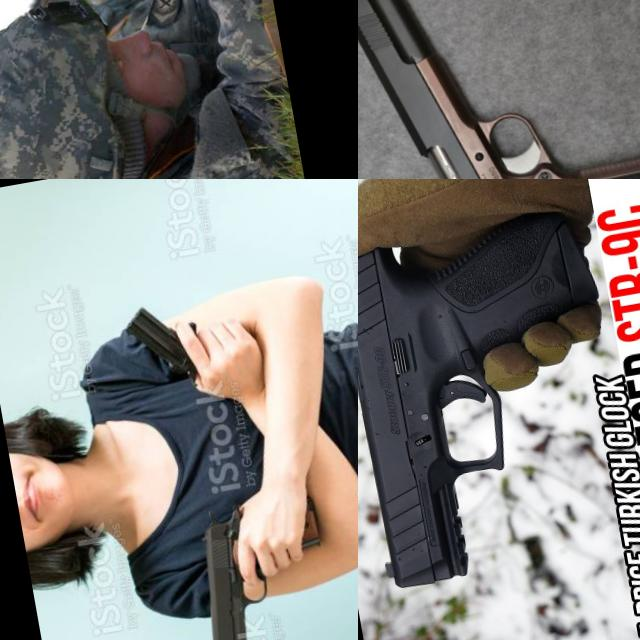handgun: (358, 200, 640, 596), (358, 0, 640, 179), (179, 501, 286, 640), (30, 0, 138, 101), (62, 0, 109, 43)
